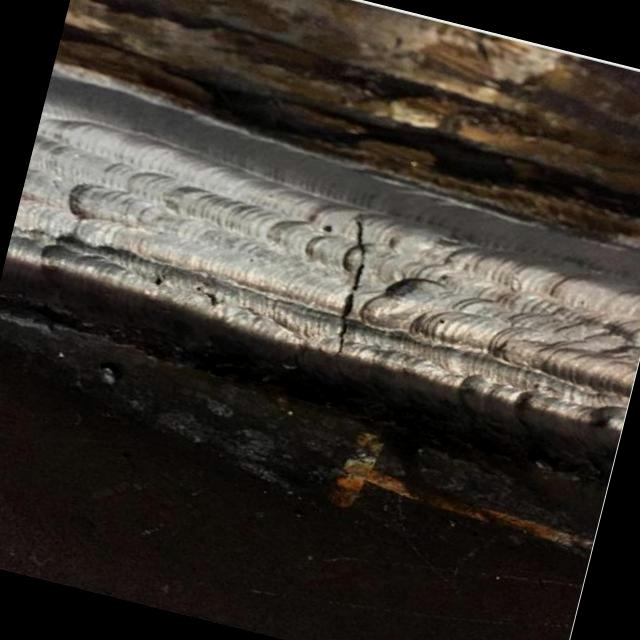defect: (333, 217, 370, 362)
